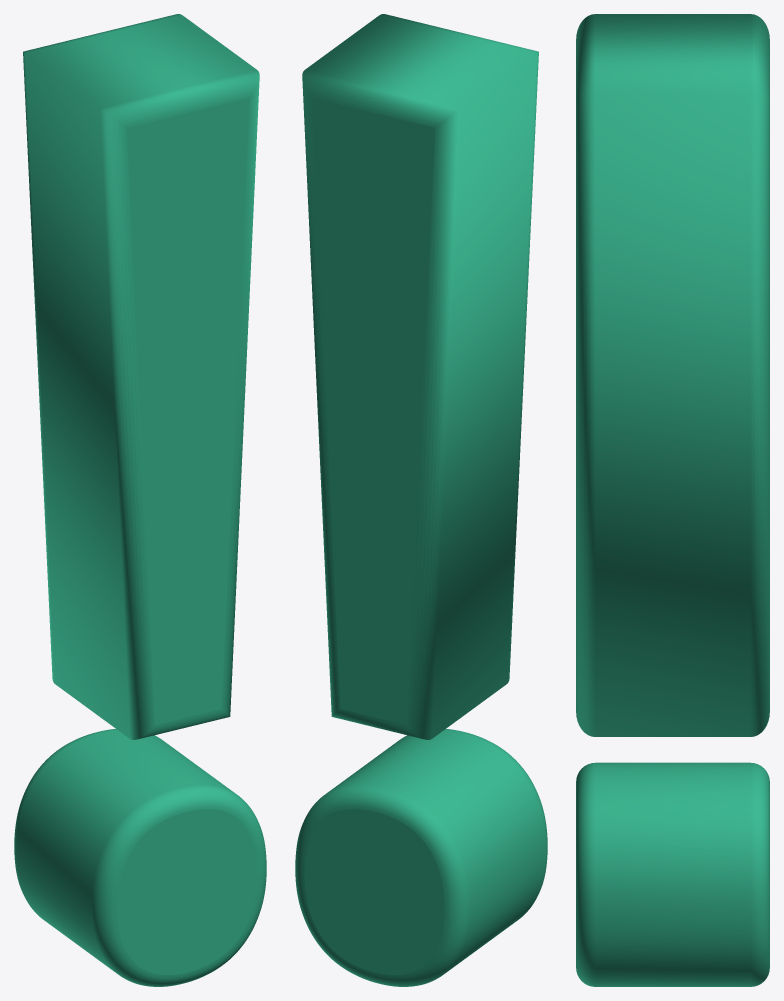
The model's file is Ausrufezeichen.fbx.
3 renders of one model, left to right at view 1: azimuth 30°, elevation 25°; view 2: azimuth 150°, elevation 25°; view 3: azimuth 270°, elevation 25°, orthographic. The views are drawn at different scales.
Visible parts, largest first — view 1: Text; view 2: Text; view 3: Text.
Boxes of the visible parts, x1,y1,x2,y2 form: Text: (14, 14, 266, 986); Text: (295, 14, 547, 986); Text: (576, 14, 769, 986).
Size of the model in its own units: 10.6 by 52.51 by 10.
